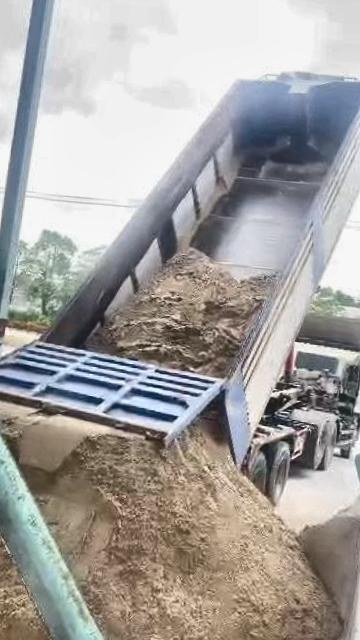sand: (2, 413, 339, 640), (88, 255, 265, 375), (0, 487, 99, 640), (299, 506, 358, 608), (200, 398, 226, 442)
